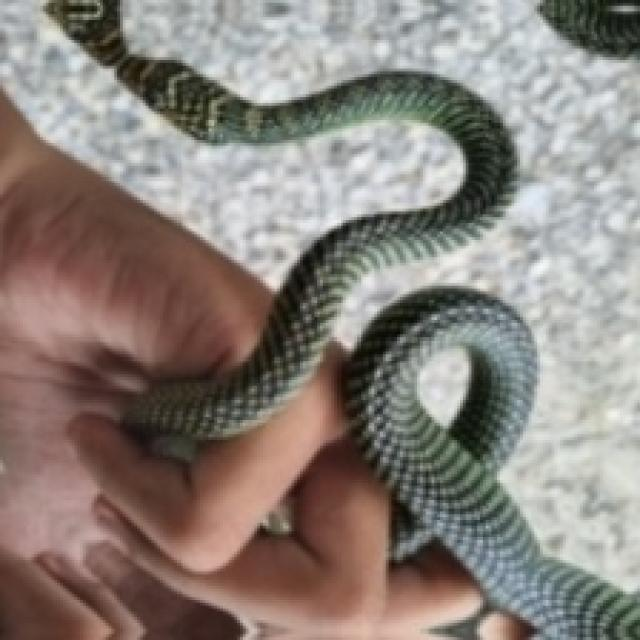paradise tree snake: (46, 0, 514, 440), (346, 286, 637, 637)
